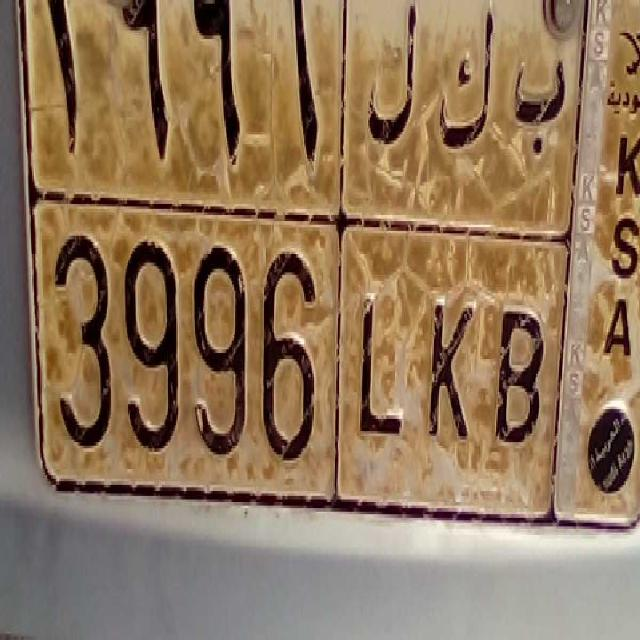license_plate: (30, 190, 552, 530)
